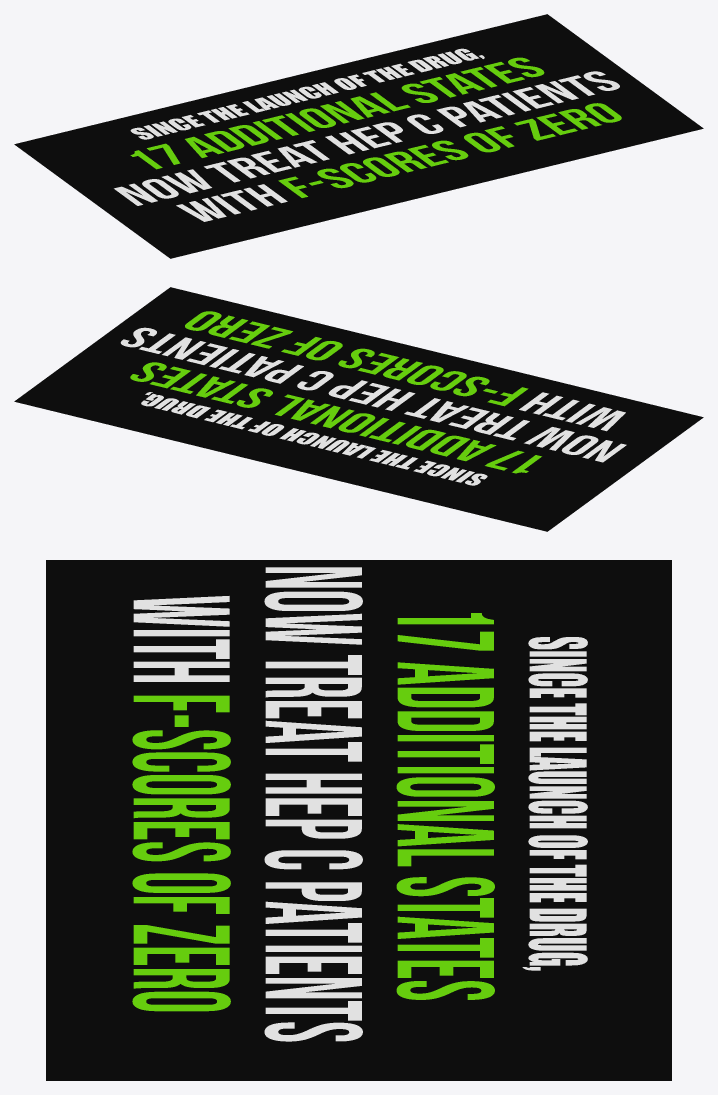
Rendered from liver copy.glb.
3 renders of one model, top to bottom at view 1: azimuth 30°, elevation 25°; view 2: azimuth 150°, elevation 25°; view 3: azimuth 270°, elevation 25°, orthographic. The views are drawn at different scales.
Visible parts, largest first — view 1: Plane, Copy; view 2: Plane, Copy; view 3: Plane, Copy.
Boxes of the visible parts, <box> form: Plane: <box>14,14,703,258</box>; Copy: <box>114,48,621,221</box>; Plane: <box>14,287,703,531</box>; Copy: <box>120,311,626,485</box>; Plane: <box>46,560,671,1080</box>; Copy: <box>132,567,587,1041</box>.
Bounding box in the file's own units: 7.31 × 0.0937 × 3.71.
